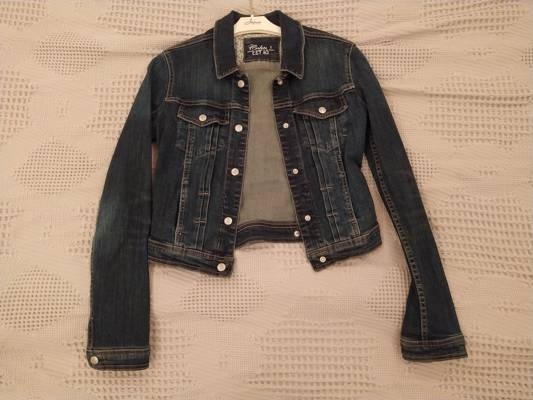Blazer: (82, 29, 478, 391)
